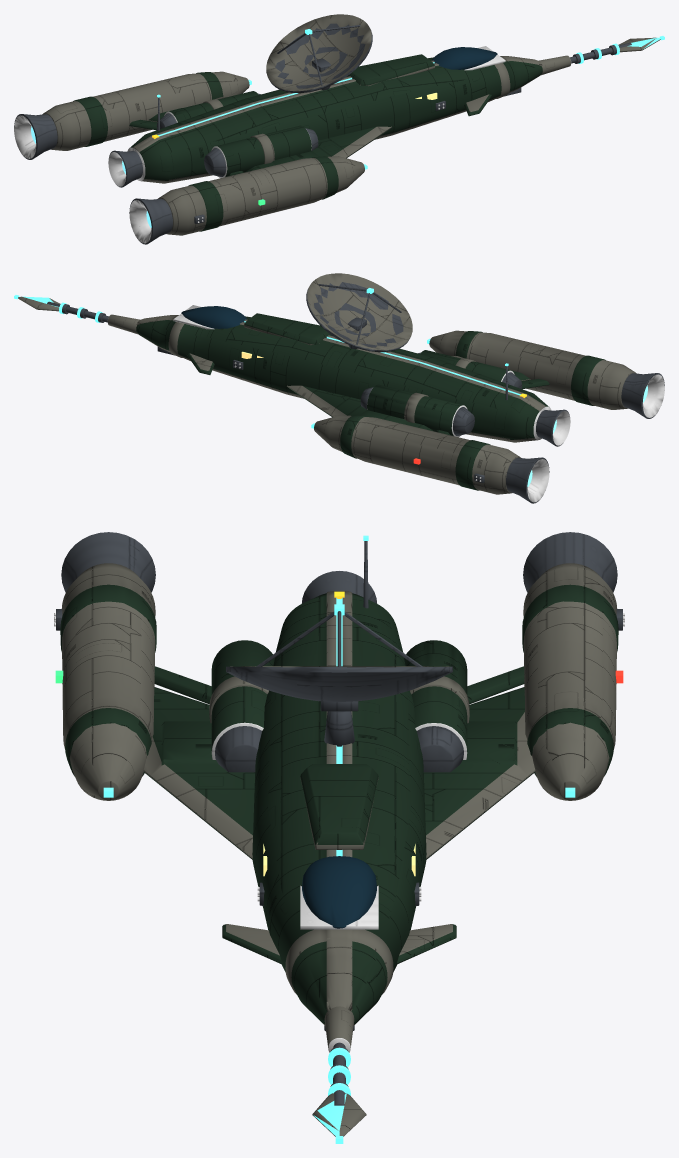
File: ranger_production_v1_lod1.glb
The picture shows the model from 3 angles, top to bottom: view 1: azimuth 30°, elevation 25°; view 2: azimuth 150°, elevation 25°; view 3: azimuth 270°, elevation 25°; orthographic projection. The views are drawn at different scales.
Parts seen in each view (by area): view 1: LOD0_Hull, LOD0_Armor, LOD0_HOOK_SENSOR_DISH_Armor, LOD0_Mechanical, LOD0_MechanicalDark, LOD0_HOOK_SENSOR_DISH_Mechanical, LOD0_CANOPY, LOD0_Lights_Cyan, LOD0_HOOK_SECONDARY_TANK_Hull; view 2: LOD0_Hull, LOD0_Armor, LOD0_HOOK_SENSOR_DISH_Armor, LOD0_Mechanical, LOD0_MechanicalDark, LOD0_HOOK_SECONDARY_TANK_Hull, LOD0_HOOK_SENSOR_DISH_Mechanical, LOD0_CANOPY, LOD0_Lights_Cyan, LOD0_HOOK_SECONDARY_TANK_Mechanical; view 3: LOD0_Hull, LOD0_Armor, LOD0_Mechanical, LOD0_HOOK_SENSOR_DISH_Mechanical, LOD0_CANOPY, LOD0_HOOK_SECONDARY_TANK_Hull, LOD0_Lights_Cyan, LOD0_HOOK_SECONDARY_TANK_Mechanical, LOD0_MechanicalDark.
Part boxes in pixels (box(x1,y1,x2,y2)): LOD0_Hull: box(73, 54, 542, 231); LOD0_Armor: box(42, 37, 660, 235); LOD0_HOOK_SENSOR_DISH_Armor: box(266, 14, 371, 91); LOD0_Mechanical: box(14, 42, 631, 244); LOD0_MechanicalDark: box(14, 46, 571, 243); LOD0_HOOK_SENSOR_DISH_Mechanical: box(269, 23, 372, 93); LOD0_CANOPY: box(432, 47, 497, 69); LOD0_Lights_Cyan: box(157, 36, 664, 169); LOD0_HOOK_SECONDARY_TANK_Hull: box(169, 91, 258, 122); LOD0_Hull: box(136, 313, 605, 490); LOD0_Armor: box(18, 296, 636, 494); LOD0_HOOK_SENSOR_DISH_Armor: box(307, 273, 412, 350); LOD0_Mechanical: box(47, 301, 664, 503); LOD0_MechanicalDark: box(107, 305, 664, 502); LOD0_HOOK_SECONDARY_TANK_Hull: box(367, 384, 462, 435); LOD0_HOOK_SENSOR_DISH_Mechanical: box(306, 282, 409, 352); LOD0_CANOPY: box(181, 306, 246, 328); LOD0_Lights_Cyan: box(14, 295, 520, 428); LOD0_HOOK_SECONDARY_TANK_Mechanical: box(360, 387, 474, 435); LOD0_Hull: box(60, 584, 618, 1024); LOD0_Armor: box(61, 563, 617, 1136); LOD0_Mechanical: box(56, 532, 622, 1105); LOD0_HOOK_SENSOR_DISH_Mechanical: box(226, 611, 452, 746); LOD0_CANOPY: box(302, 856, 376, 928); LOD0_HOOK_SECONDARY_TANK_Hull: box(404, 640, 467, 751); LOD0_Lights_Cyan: box(103, 535, 575, 1143); LOD0_HOOK_SECONDARY_TANK_Mechanical: box(417, 726, 463, 772); LOD0_MechanicalDark: box(54, 613, 624, 1052).
Size of what is drawn, in the model's own units: 17.73 by 3.39 by 7.54.
11 materials, 4 textured.
